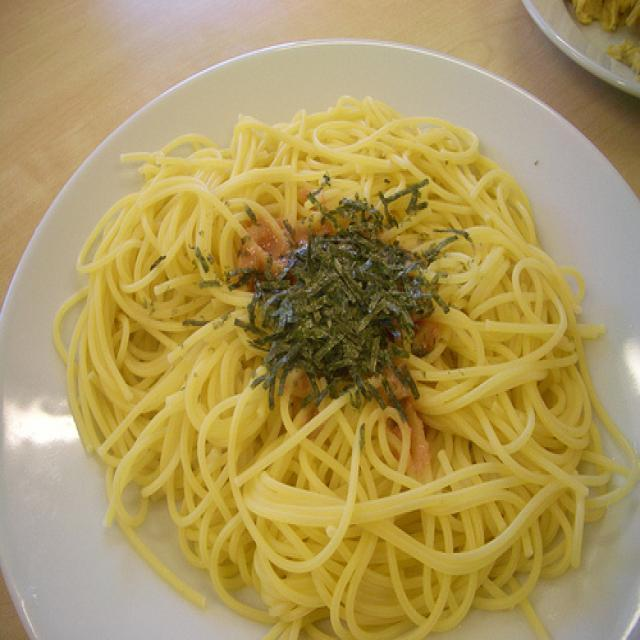Pasta: (94, 103, 616, 622)
